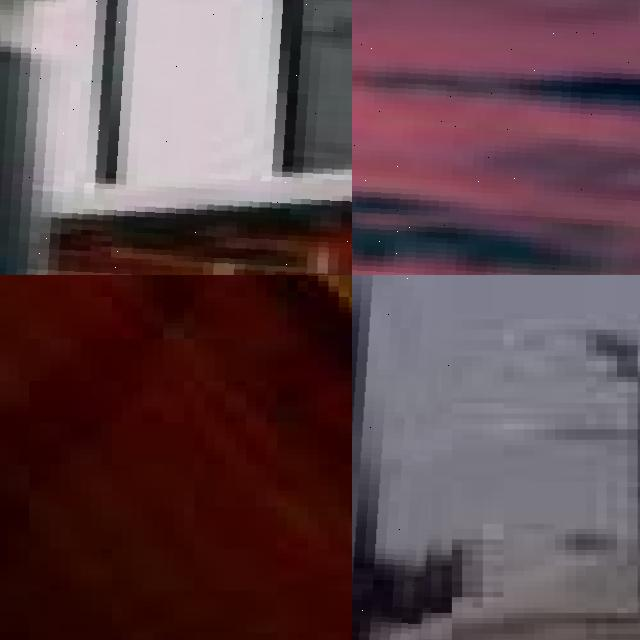street light: (0, 0, 352, 275), (352, 0, 640, 275), (352, 275, 452, 640)
